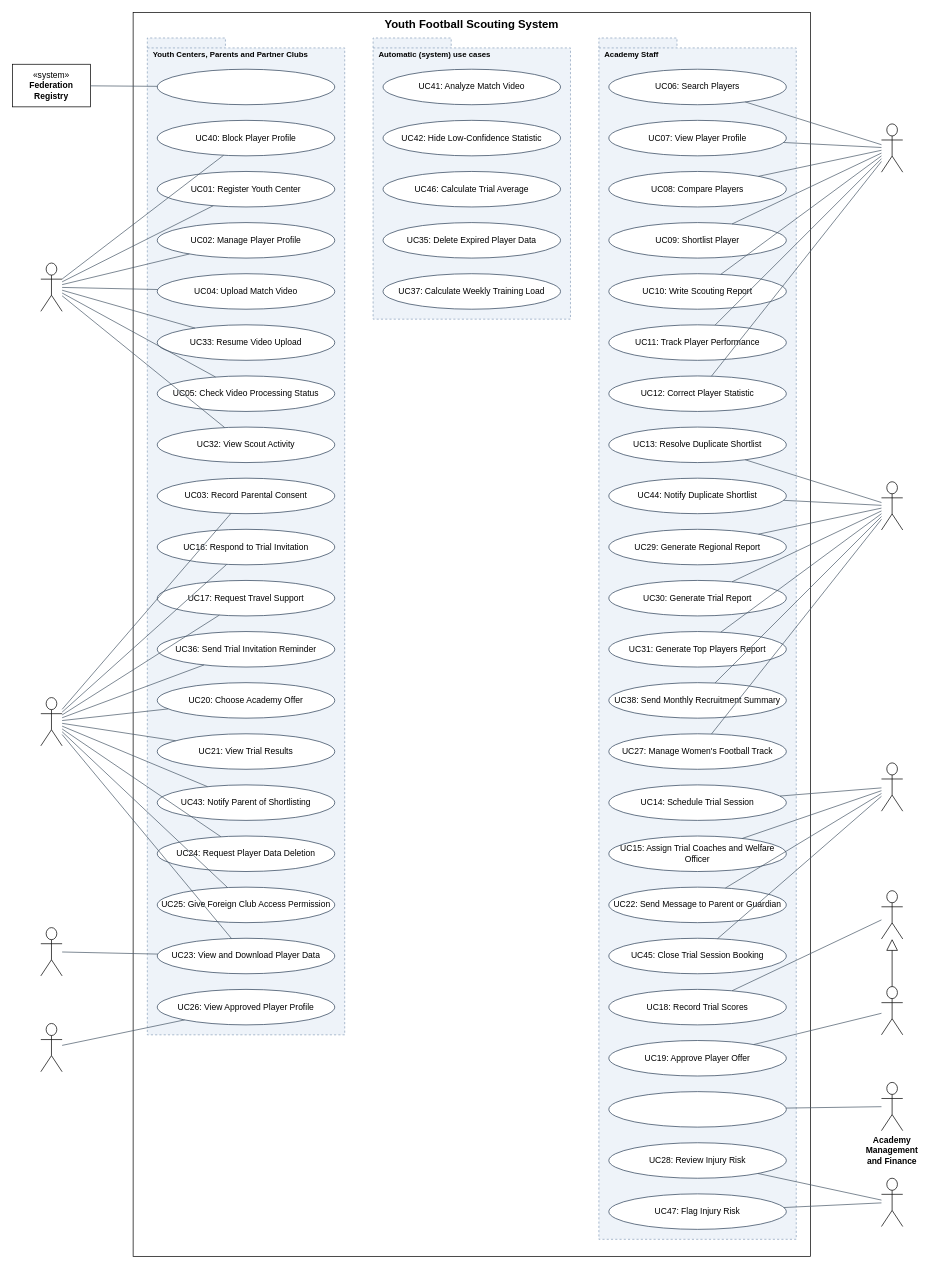
The diagram is 931 pixels wide and 1285 high, and some of its shapes have lost their labels. The centre of each missing label's shape, as x and y in pixels:
"Coach" belongs at point (892, 914).
"Fitness or Medical Staff" belongs at point (892, 1202).
"Foreign Partner Club" belongs at point (51, 1047).
"Head Coach" belongs at point (892, 1010).
"Head of Recruitment" belongs at point (892, 505).
"Parent or Guardian" belongs at point (51, 721).
"Player" belongs at point (51, 951).
"Scout" belongs at point (892, 147).
"Trial Coordination Staff" belongs at point (892, 786).
"UC34: Review Travel Support Requests" belongs at point (697, 1109).
"UC39: Verify Player Age and Registration" belongs at point (246, 87).
"Youth Center Staff" belongs at point (51, 286).
